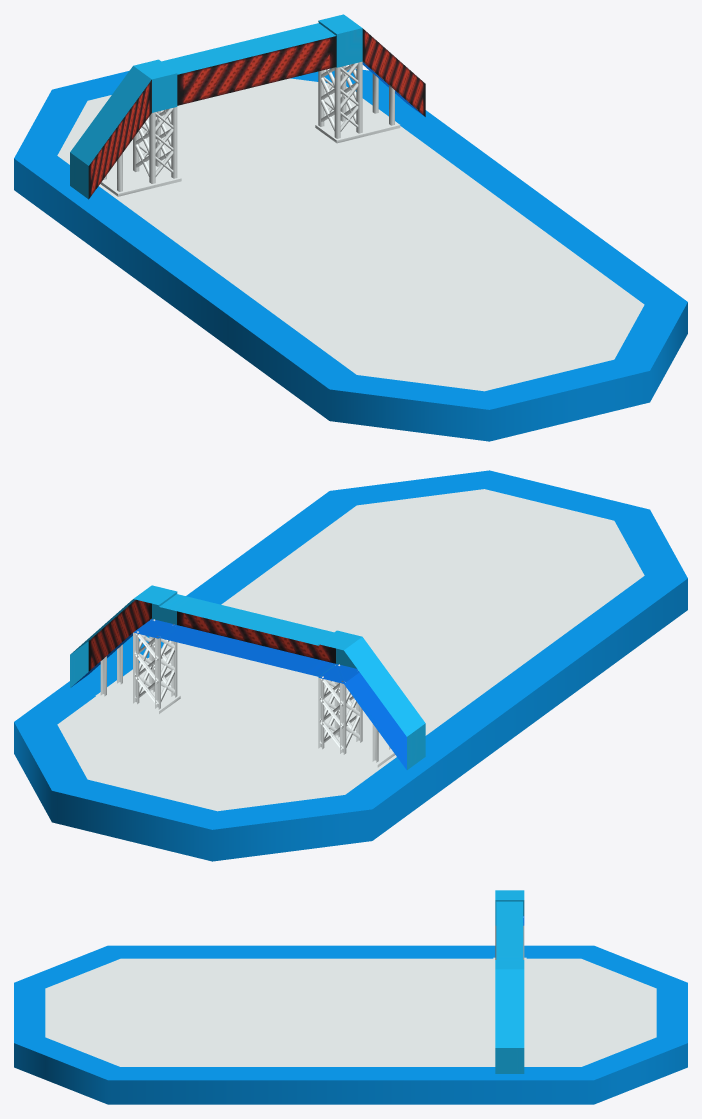
Rendered from Checkpoint_1.FBX.
The picture shows the model from 3 angles, top to bottom: view 1: azimuth 30°, elevation 25°; view 2: azimuth 150°, elevation 25°; view 3: azimuth 270°, elevation 25°; orthographic projection. The views are drawn at different scales.
Parts seen in each view (by area): view 1: Checkpoint_1; view 2: Checkpoint_1; view 3: Checkpoint_1.
Part boxes in pixels (x1,y1,x2,y2): Checkpoint_1: (14, 14, 687, 441); Checkpoint_1: (14, 470, 687, 861); Checkpoint_1: (14, 890, 687, 1104).
Bounding box in the file's own units: 49.61 × 18.45 × 105.
